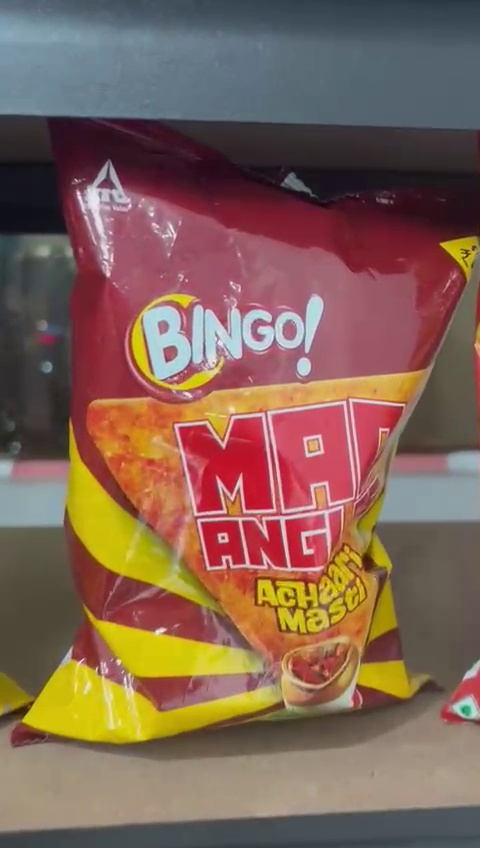Bingo Mad Angles: (51, 120, 428, 734)
